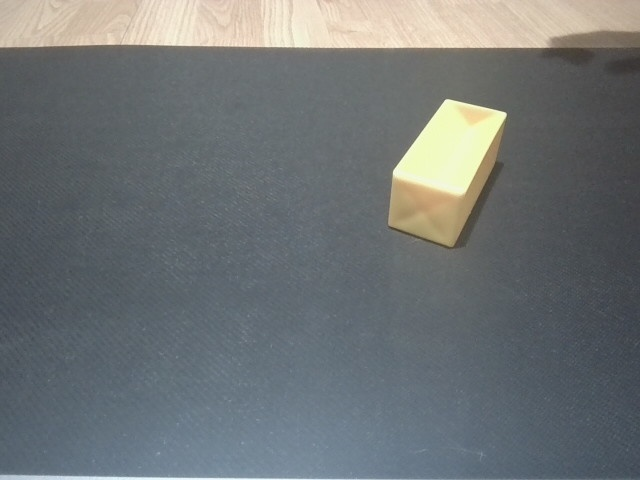YellowSample: (385, 97, 509, 249)
